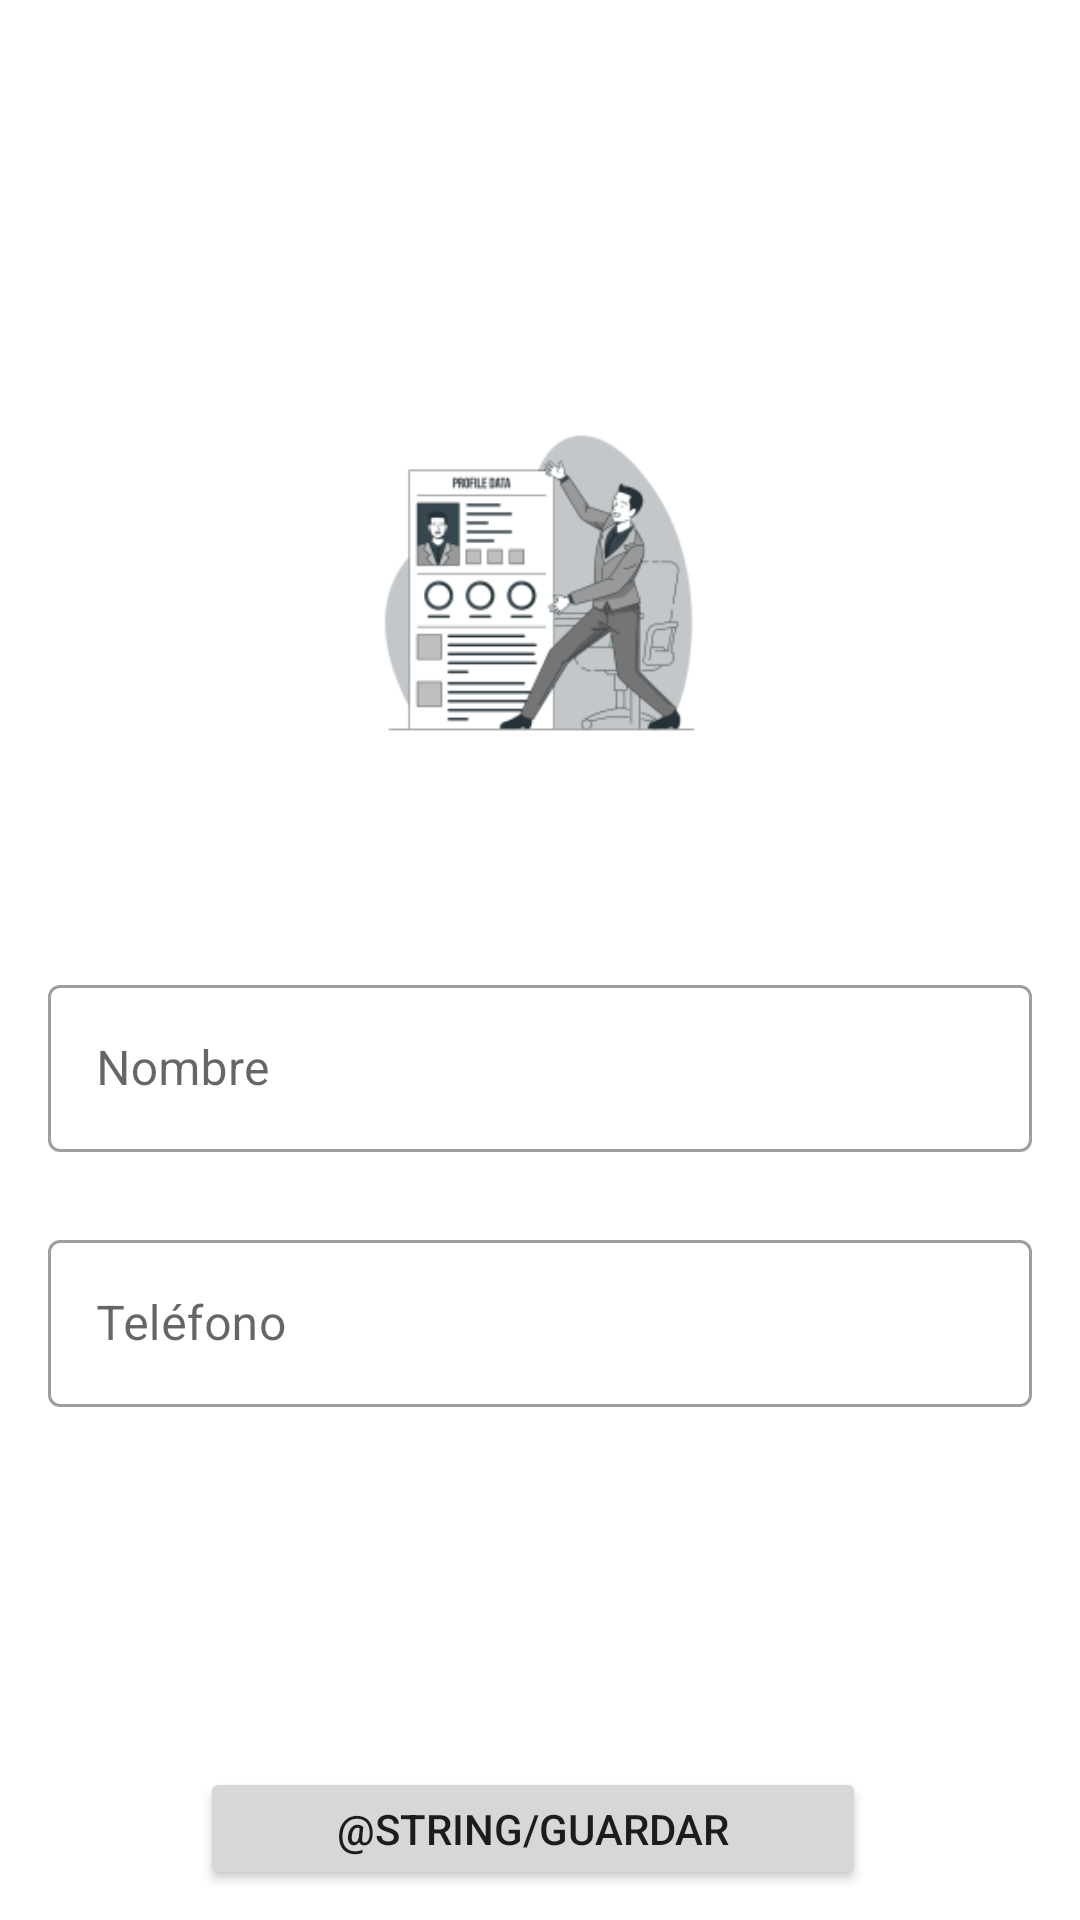

Screen size 1080 x 1920. Icon name, then its center in pixels as [x,y]:
account: [540,583]
